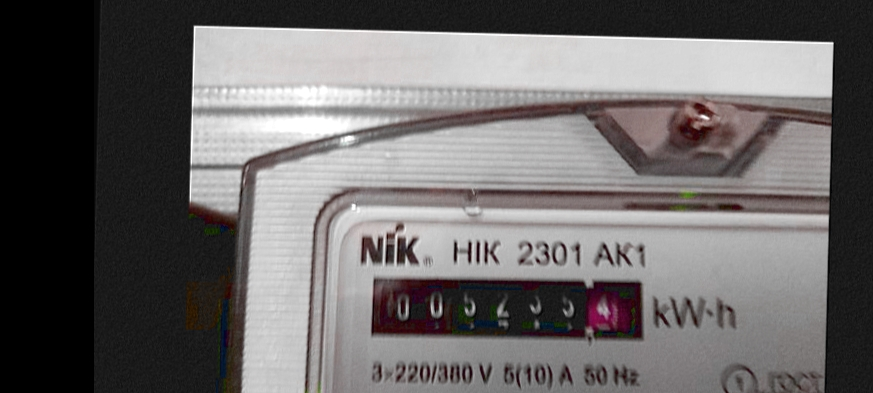0: (428, 287, 449, 320), (396, 290, 415, 322)
2: (494, 286, 516, 320)
3: (526, 284, 551, 318)
4: (595, 286, 618, 323)
5: (560, 284, 583, 321), (462, 286, 482, 319)
screen: (357, 260, 661, 355)
